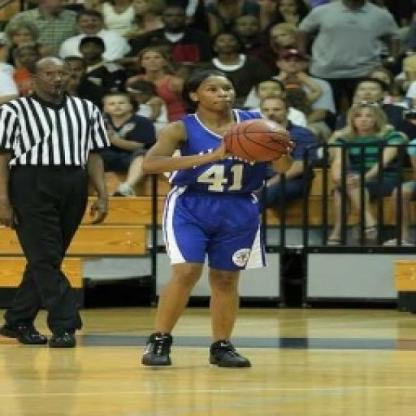basketball: (224, 119, 291, 162)
